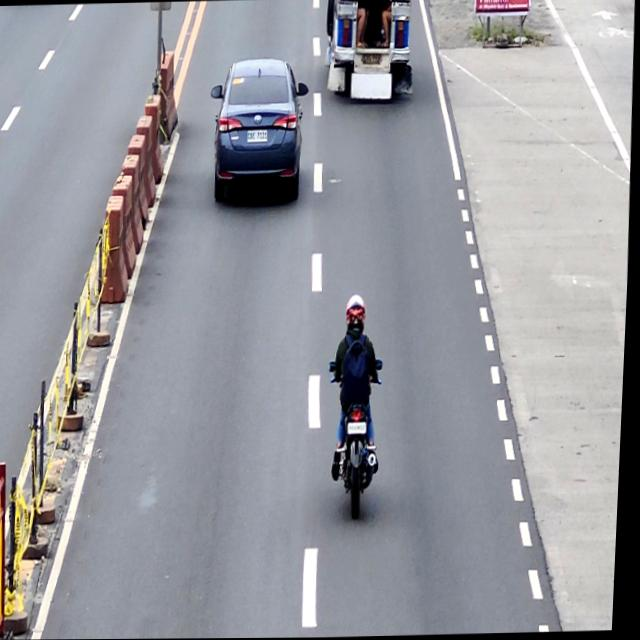Car: (206, 59, 310, 209)
Jeep: (321, 0, 415, 114)
License-Plate: (362, 52, 383, 66), (246, 129, 268, 142), (351, 420, 371, 434)
Motorcycle: (326, 357, 387, 519)
